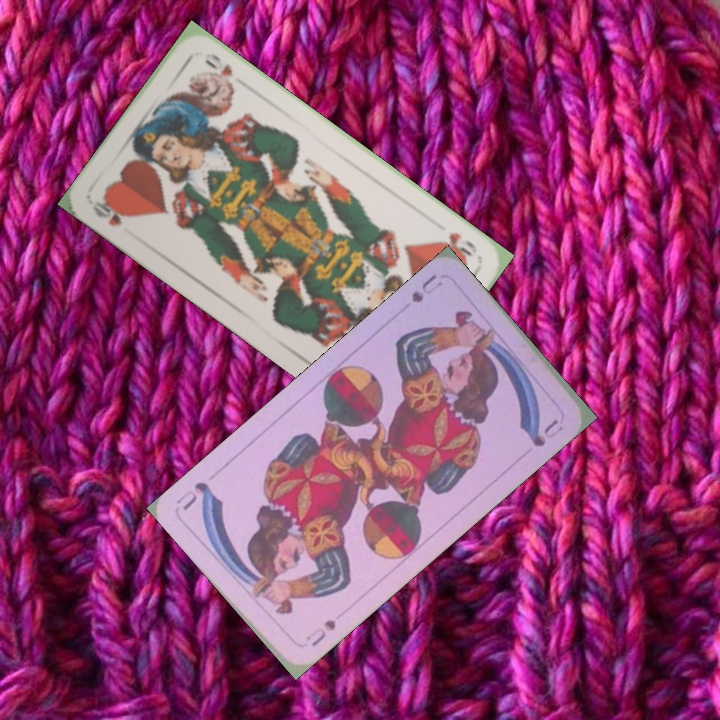HO: (87, 194, 133, 229), (435, 228, 480, 262)
SU: (407, 270, 445, 306), (301, 615, 339, 650)
